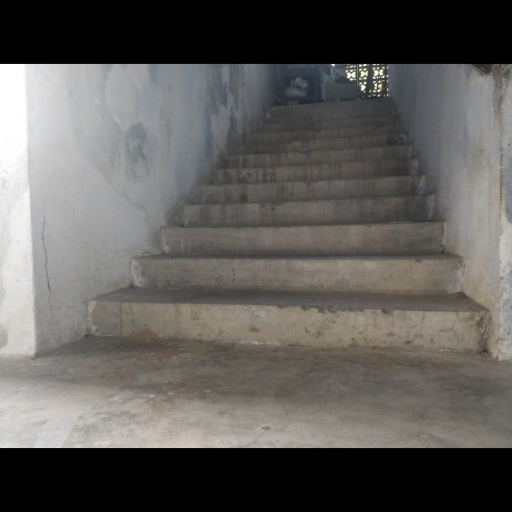Stairs: (90, 99, 487, 352)
